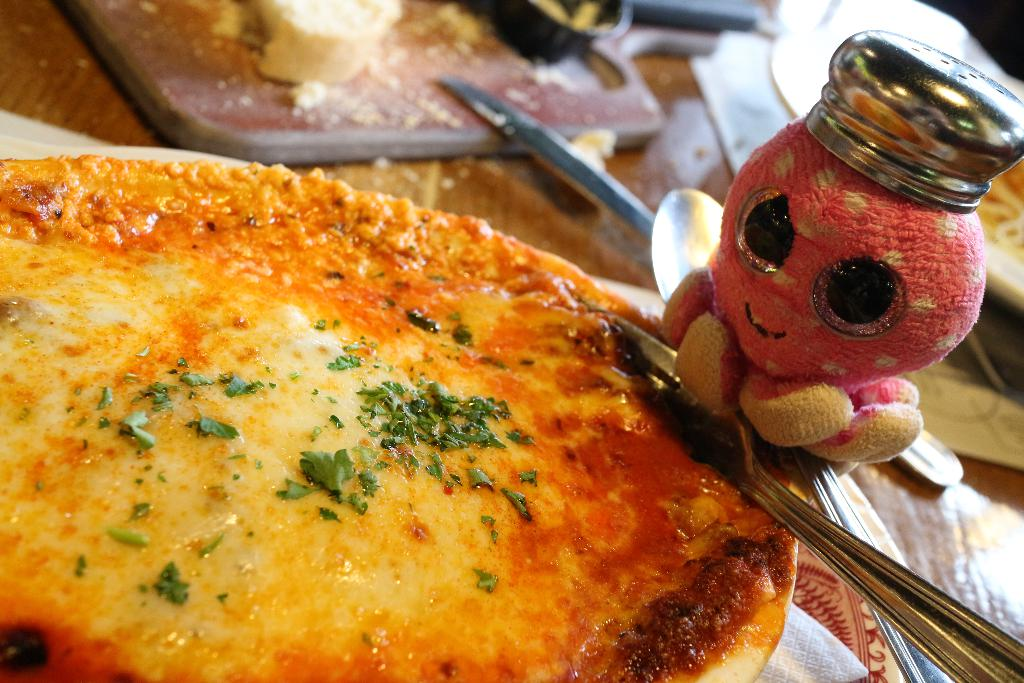Pizza: (0, 143, 878, 683)
